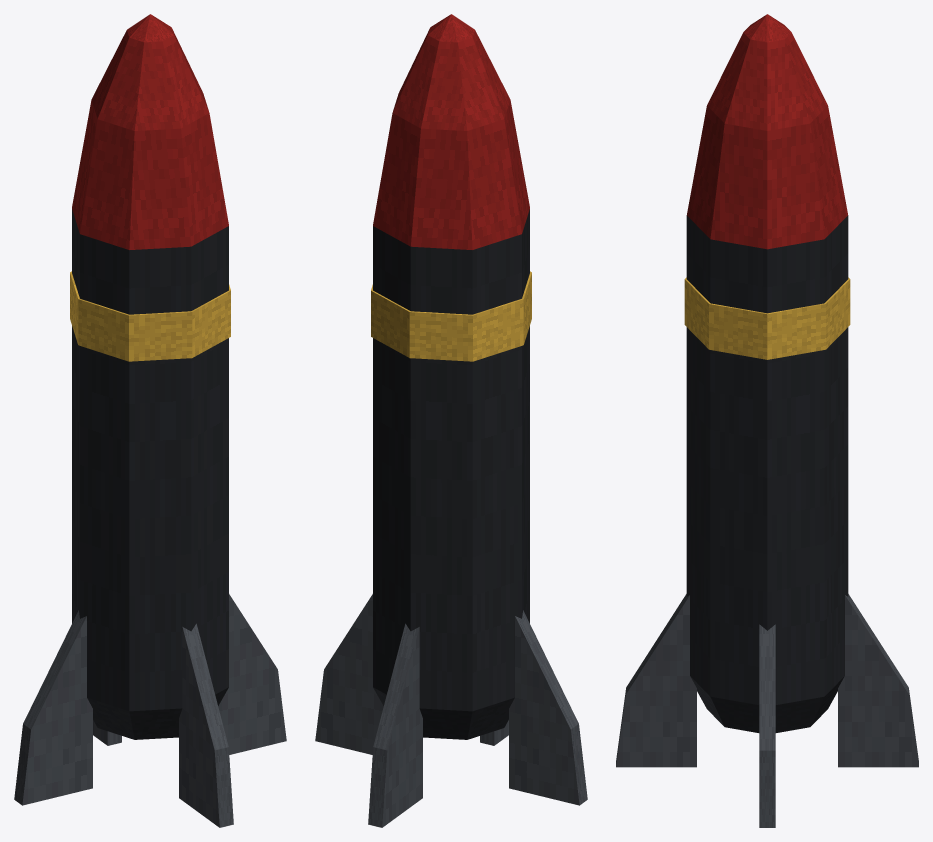
The model's file is ammo_round_rocket.glb.
The picture shows the model from 3 angles, left to right: view 1: azimuth 30°, elevation 25°; view 2: azimuth 150°, elevation 25°; view 3: azimuth 270°, elevation 25°; orthographic projection.
Parts seen in each view (by area): view 1: ammo_round_rocket; view 2: ammo_round_rocket; view 3: ammo_round_rocket.
Part boxes in pixels (x1,y1,x2,y2): ammo_round_rocket: (14,14,286,827); ammo_round_rocket: (315,14,587,827); ammo_round_rocket: (616,14,918,827).
Bounding box in the file's own units: 0.15 × 0.41 × 0.15.
1 material, 1 textured.
